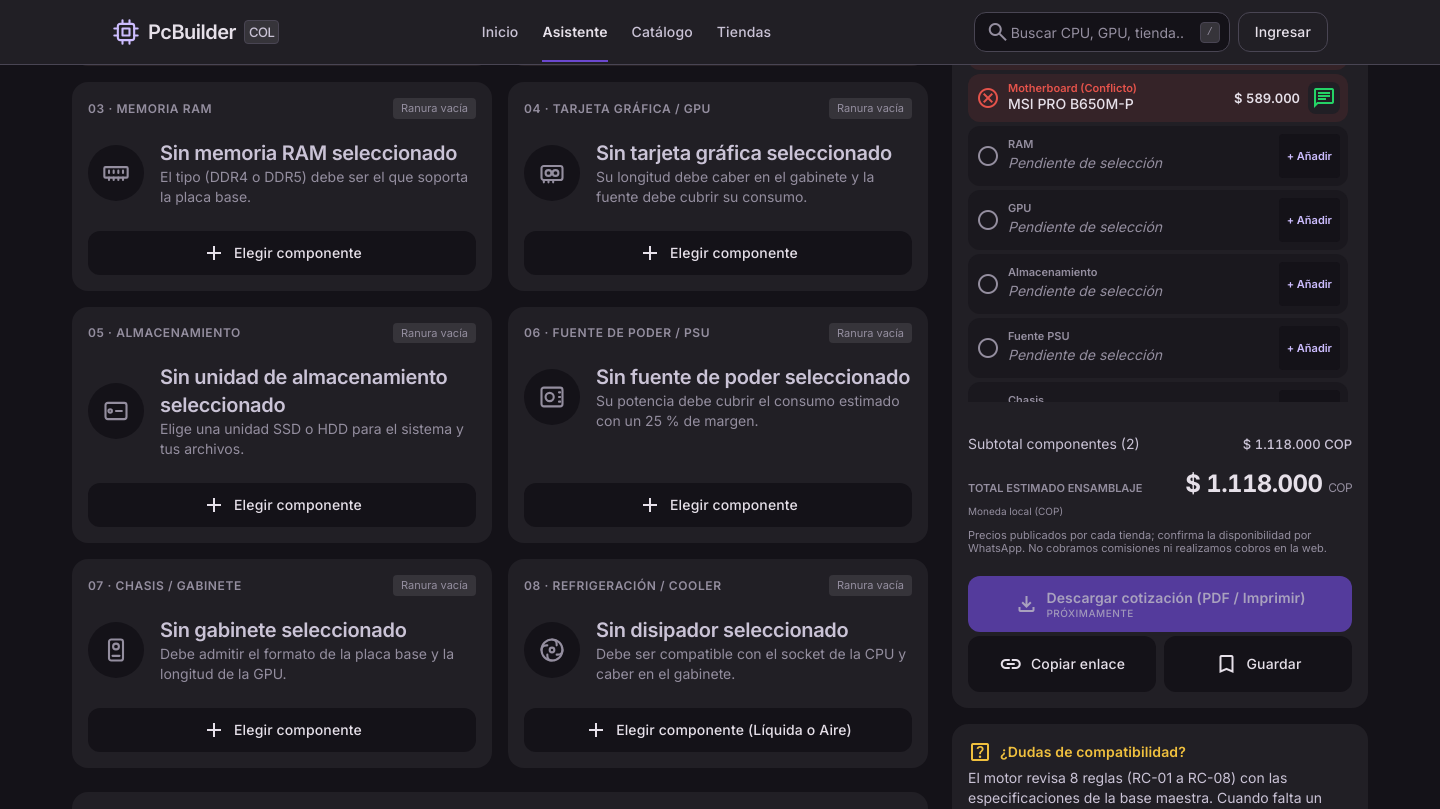
Scenario: Asistente: compartir sin sesión › un armado con incompatibilidades se comparte como borrador
(page scrolled)
Note: Procesador AM5 con placa AM4 (incompatible a propósito)
Click the button "Copiar enlace": click(1062, 664) [968,636,1156,692]
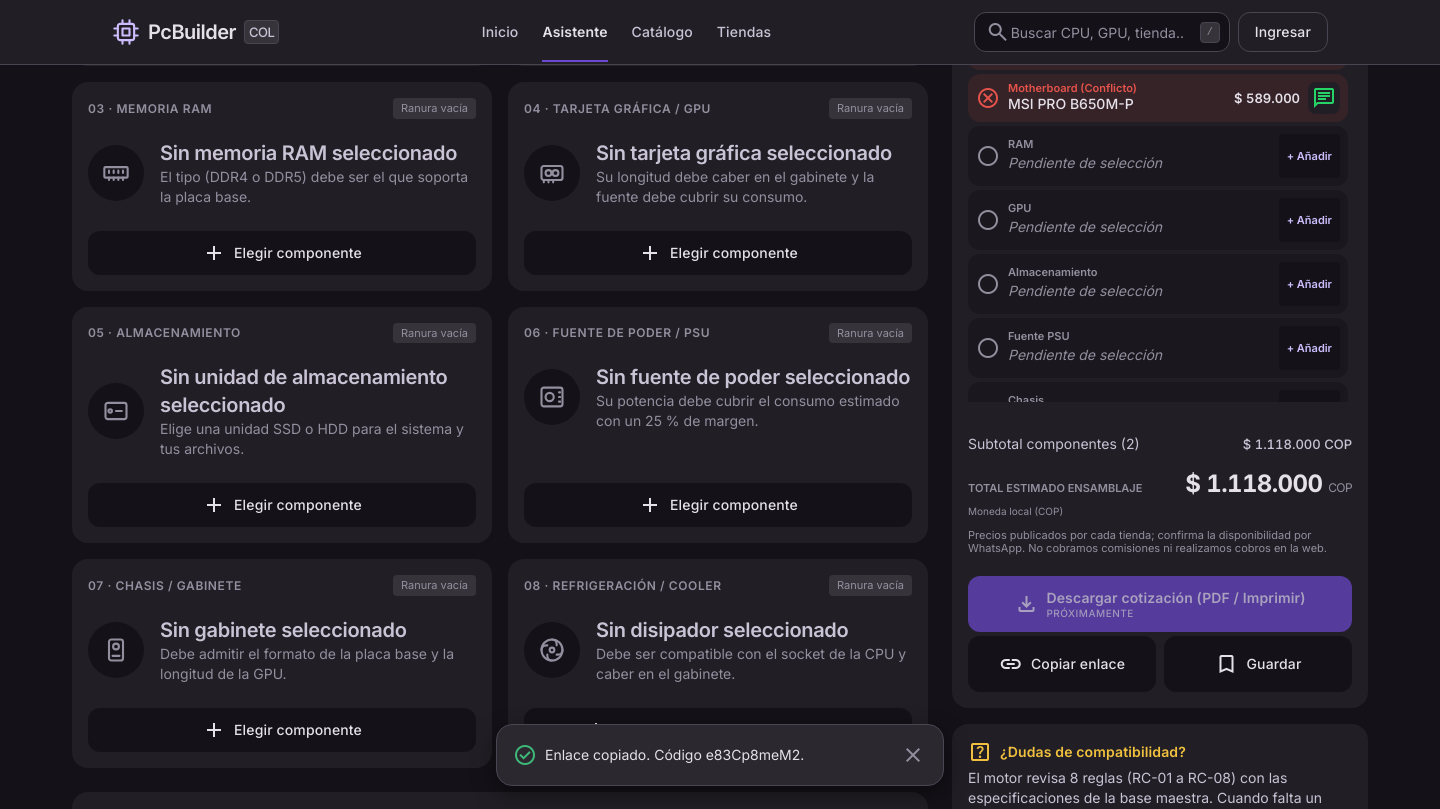
Result: the text "Enlace copiado. Código e83Cp8meM2." is shown at [545,746,804,763]
